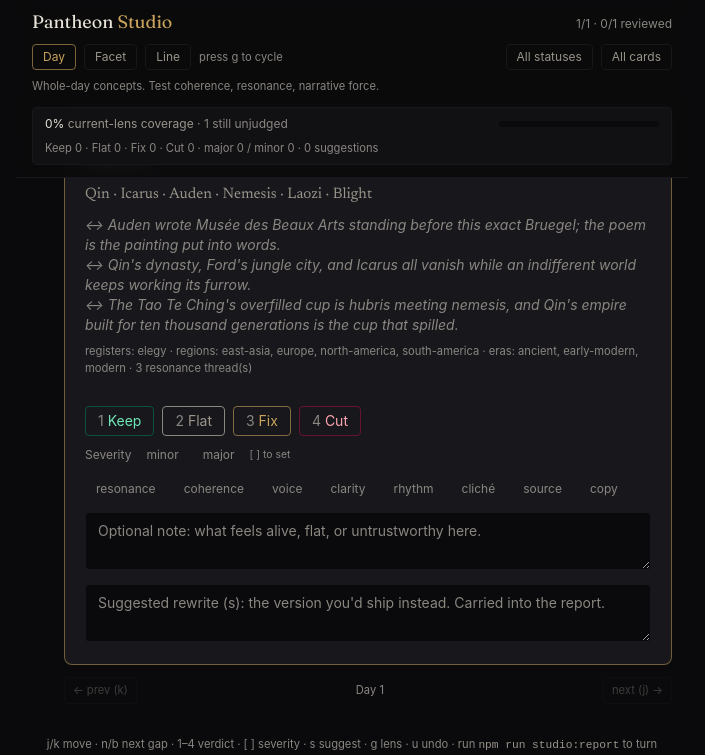
Studio › switches lenses to review facets
(page scrolled)
Expected: the heading "Hubris" is shown, [85,148,150,173]
Step 1. Click the button "Facet" → (111, 57), box [84,44,137,70]
(page scrolled)
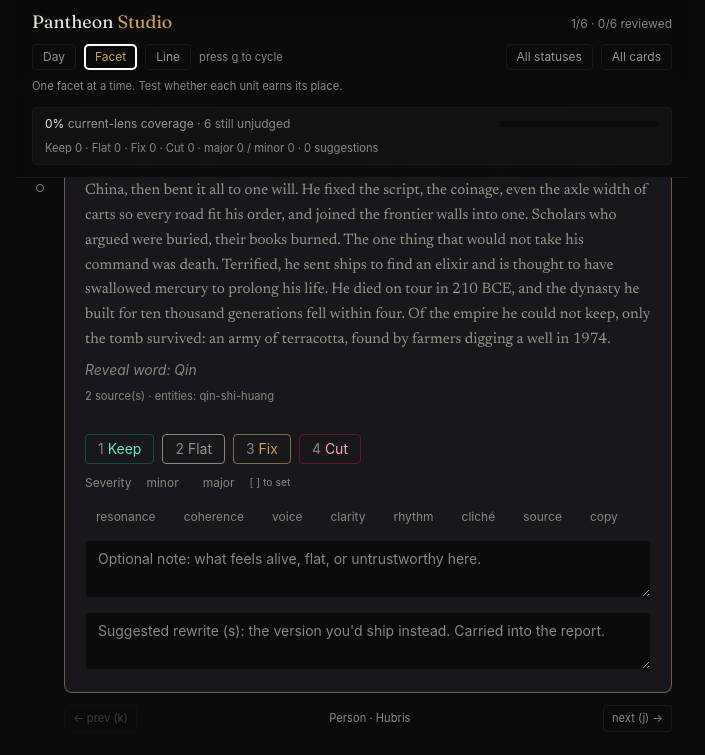
Expected: the heading "Qin Shi Huang" is shown, [85,120,222,145]
